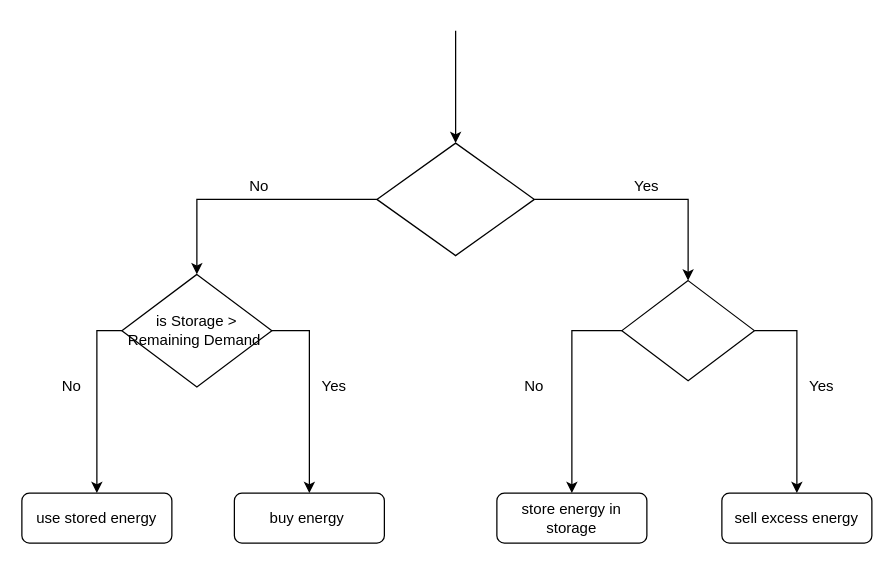
This 894x565 diagram has some shape labels left out. Each missing label, with the centre of its shape:
is solar energy > demand: pixel 455 199
is Storage full: pixel 687 330
